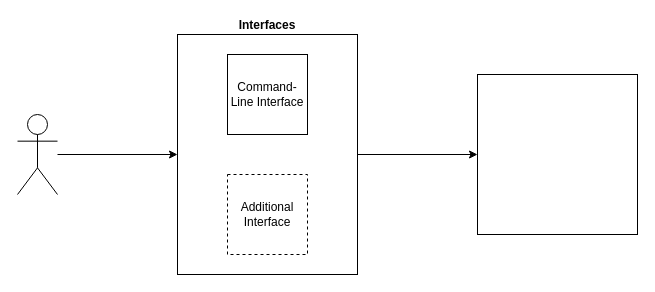
The diagram is 655 pixels wide and 292 high, and some of its shapes have lost their labels. The shapes that lost their labels are listed below. From the top down, each one's centre as x and y in pixels, then its label:
At point (37, 154): "User".
At point (557, 154): "Core PDF extracting logic".
